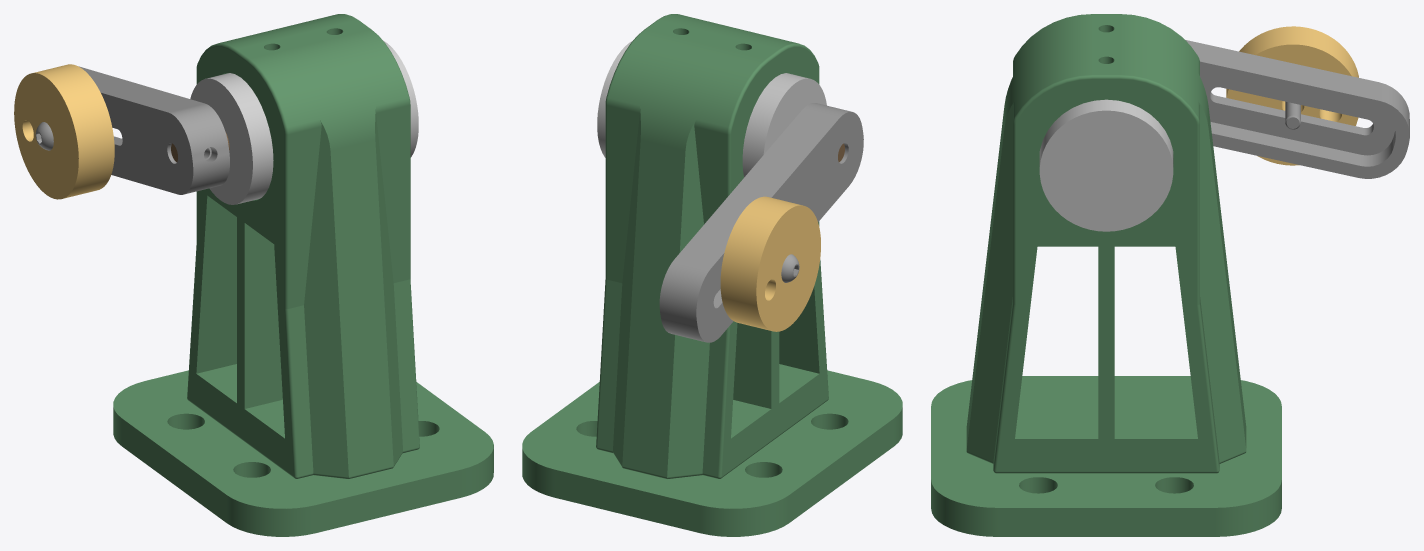
File: tremor.glb
3 renders of one model, left to right at view 1: azimuth 30°, elevation 25°; view 2: azimuth 150°, elevation 25°; view 3: azimuth 270°, elevation 25°, orthographic. The views are drawn at different scales.
Parts seen in each view (by area): view 1: Body2, Body1, Body2.001, Body1.004, Body1.001; view 2: Body2, Body1, Body2.001, Body1.004, Body1.001; view 3: Body2, Body1, Body2.001, Body1.001, Body1.004.
Boxes of the visible parts, left/top/right/bottom form: Body2: left=187, top=14, right=419, bottom=478; Body1: left=113, top=370, right=493, bottom=536; Body2.001: left=79, top=66, right=229, bottom=194; Body1.004: left=14, top=64, right=114, bottom=199; Body1.001: left=190, top=41, right=418, bottom=204; Body2: left=596, top=14, right=828, bottom=478; Body1: left=522, top=370, right=902, bottom=536; Body2.001: left=659, top=103, right=863, bottom=342; Body1.004: left=720, top=196, right=820, bottom=331; Body1.001: left=597, top=40, right=826, bottom=177; Body2: left=966, top=14, right=1246, bottom=473; Body1: left=931, top=380, right=1281, bottom=536; Body2.001: left=1185, top=40, right=1409, bottom=178; Body1.001: left=1039, top=99, right=1173, bottom=231; Body1.004: left=1226, top=26, right=1358, bottom=165.
Size of the model in its own units: 67.61 by 88.2 by 89.54.
